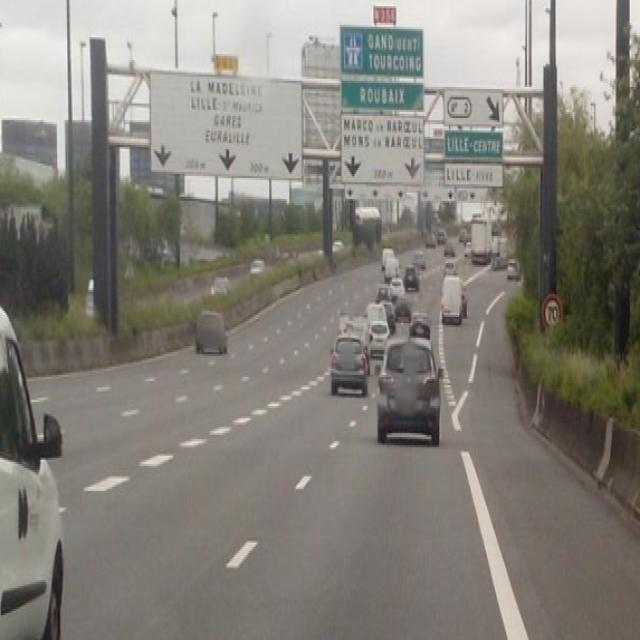speed_70: (544, 296, 562, 330)
